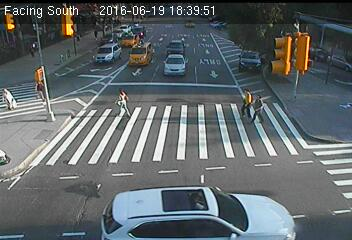neg: (282, 183, 300, 207), (105, 183, 122, 206), (289, 32, 305, 54), (293, 88, 307, 107), (49, 125, 63, 144), (85, 146, 99, 165), (227, 137, 241, 156), (172, 156, 186, 174), (76, 183, 90, 201), (192, 134, 205, 152), (275, 158, 288, 176), (220, 166, 233, 183), (158, 6, 171, 23), (12, 133, 25, 150), (123, 32, 135, 48), (250, 207, 262, 223), (287, 116, 298, 132), (190, 76, 201, 91), (72, 85, 82, 100), (209, 46, 219, 60), (136, 132, 146, 146), (150, 75, 160, 89), (231, 39, 241, 52), (45, 205, 55, 218), (178, 113, 187, 126), (193, 23, 202, 36), (90, 62, 99, 75), (42, 168, 51, 181), (310, 38, 318, 49), (249, 16, 257, 27), (321, 80, 328, 90), (116, 12, 121, 19), (171, 57, 176, 63)
pos: (235, 85, 259, 117), (110, 83, 134, 115), (249, 93, 271, 122), (31, 78, 49, 101), (90, 28, 99, 40), (27, 45, 36, 56), (73, 33, 82, 44)
